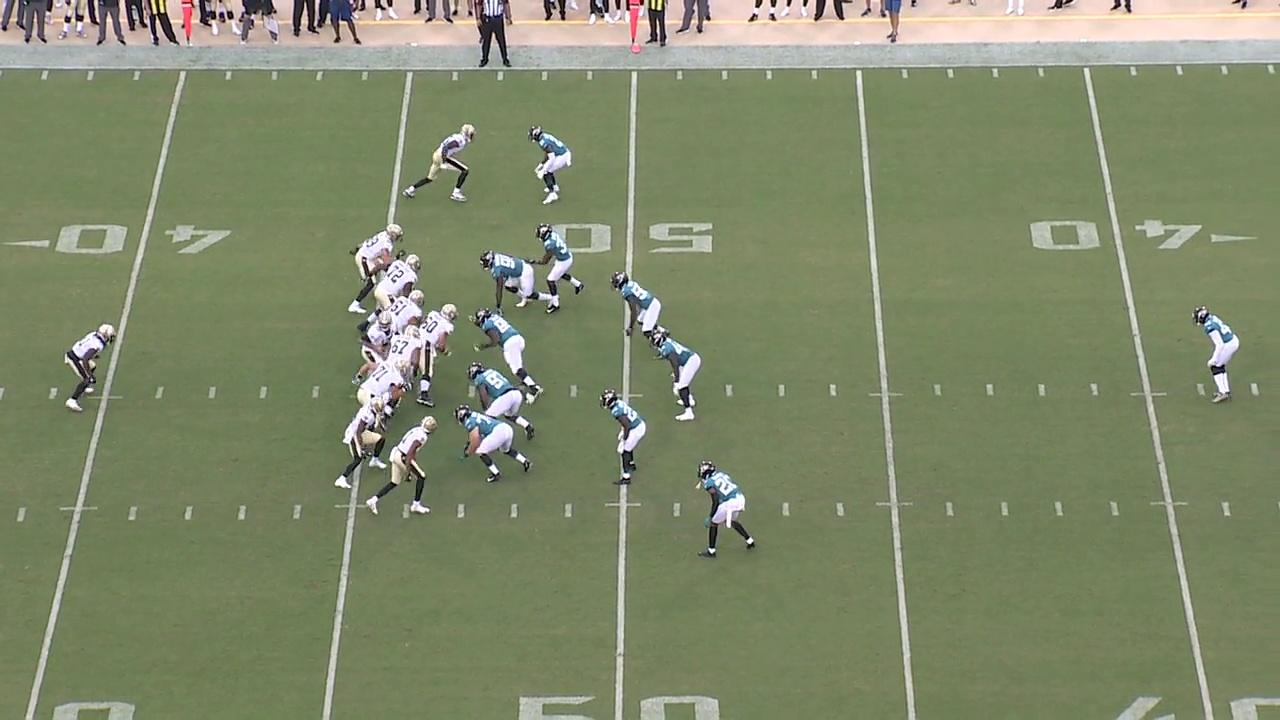player: (364, 409, 439, 519), (688, 460, 764, 562), (452, 405, 536, 487), (399, 121, 482, 203), (56, 320, 119, 416), (472, 308, 543, 391), (346, 220, 405, 315), (598, 387, 650, 489), (526, 225, 585, 314), (1192, 304, 1241, 405), (360, 252, 425, 328), (470, 363, 534, 439), (650, 335, 704, 423), (417, 304, 462, 408), (339, 400, 385, 495), (476, 248, 550, 305), (613, 270, 664, 349), (531, 119, 572, 210), (351, 314, 393, 386), (356, 361, 411, 408), (386, 325, 424, 374), (386, 288, 421, 336)
ref: (474, 0, 521, 64)
